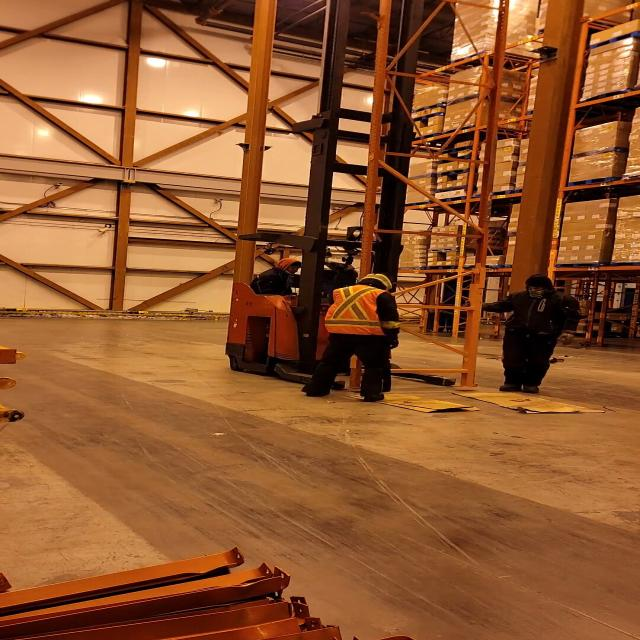forklift: (219, 114, 471, 393)
human: (479, 272, 584, 400), (297, 272, 400, 402), (248, 256, 308, 294)
objectofinterest: (346, 11, 490, 390), (451, 386, 615, 414), (373, 388, 475, 414)
